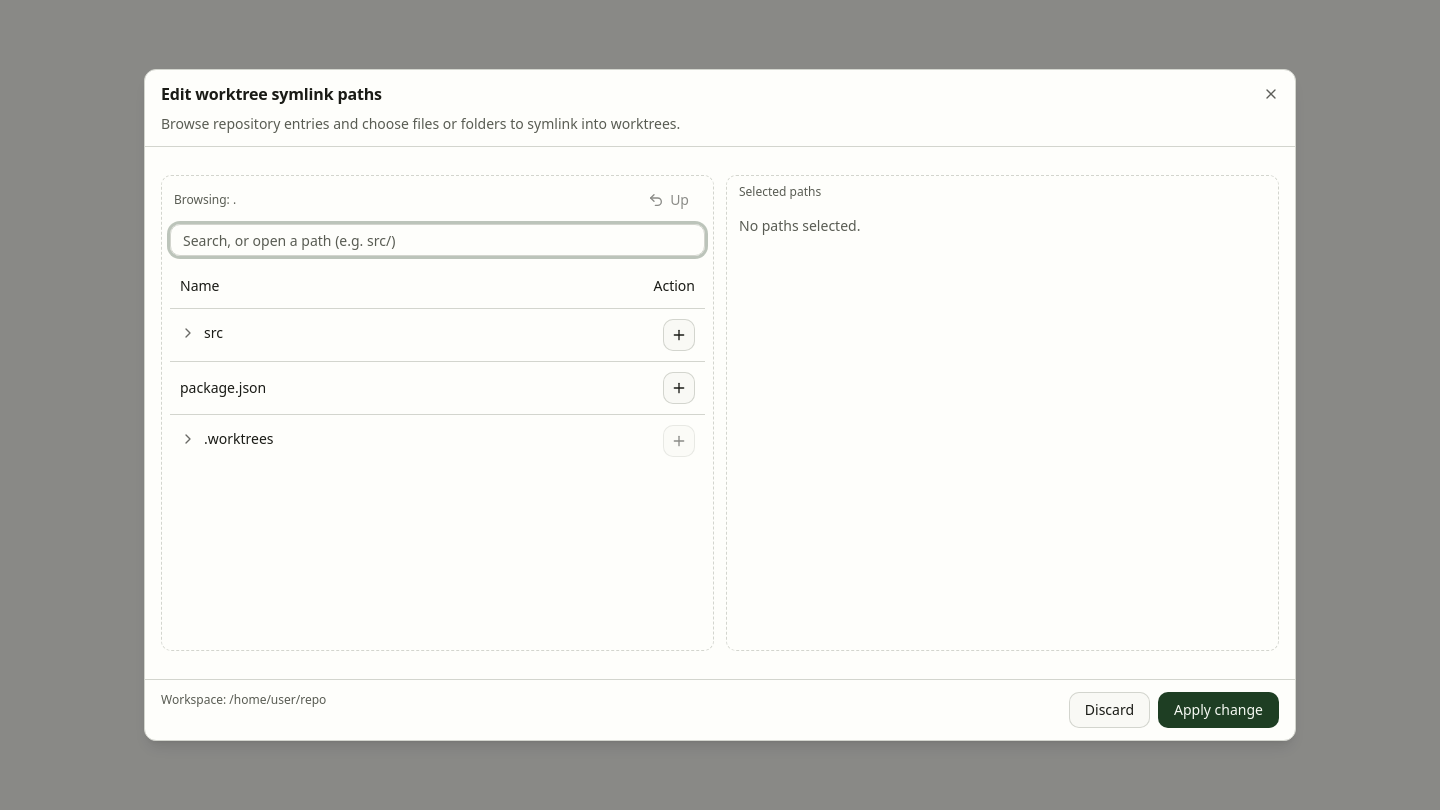
WorktreeSymlinkPathsModal › shows no matching entries message when search has no results
The width and height of the screenshot is (1440, 810).
Check: the text "src" is shown, box top-left (204, 323), bottom-right (223, 343)
Type "nonexistent" into the field named "Search entries". click: (438, 240)
box: top-left (170, 224), bottom-right (705, 256)
Wait 300 ms
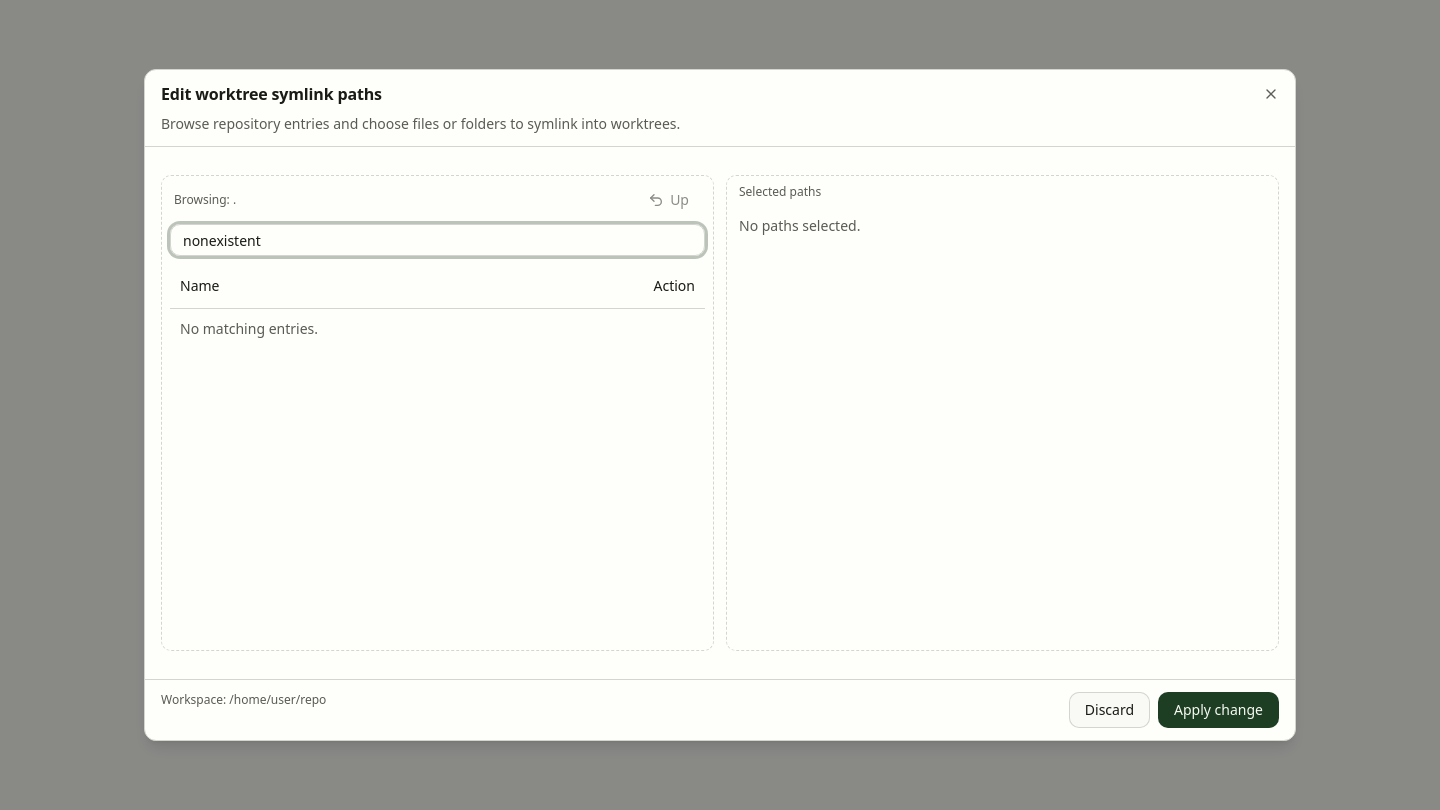
Check: the text "No matching entries." is shown, box top-left (170, 308), bottom-right (705, 348)
